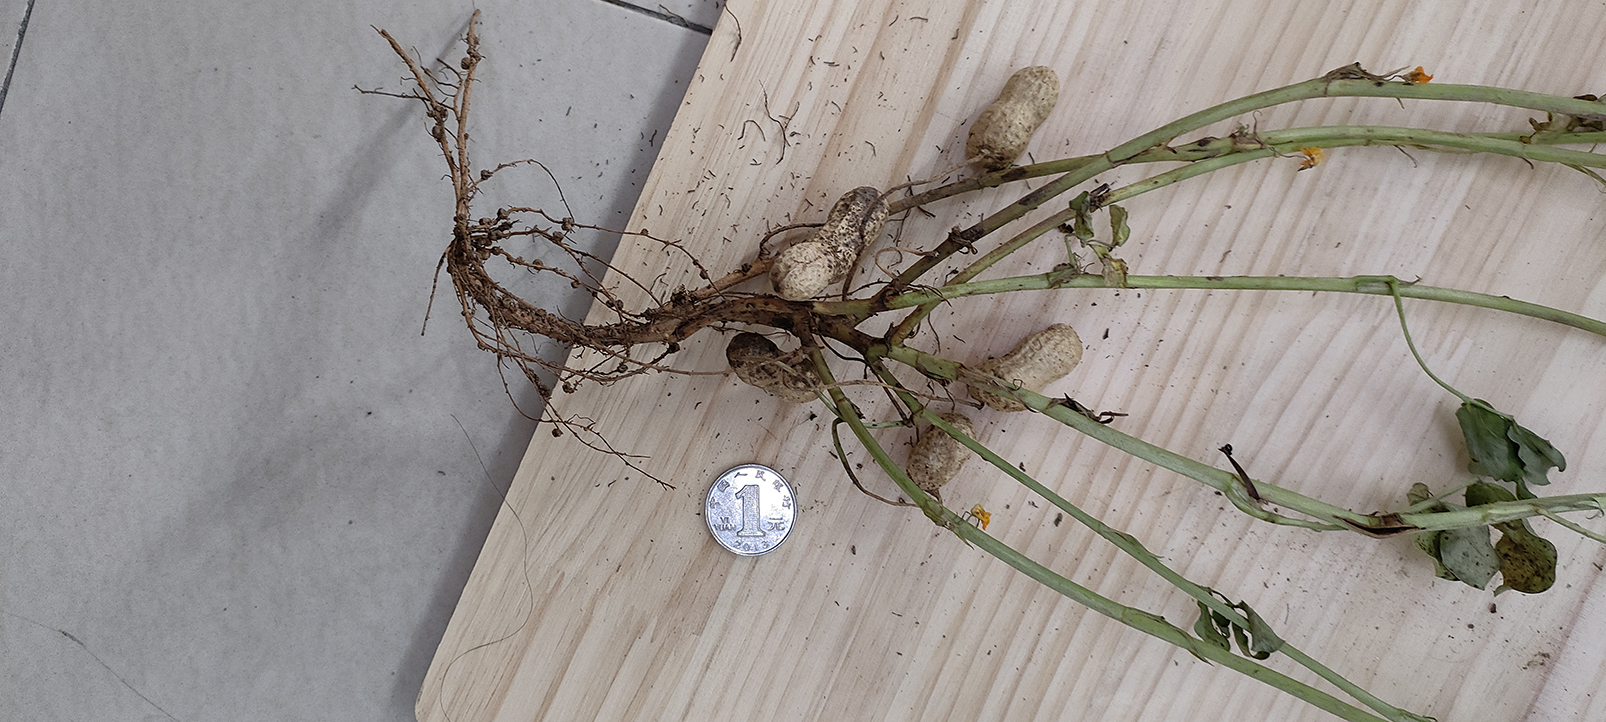h: (770, 187, 890, 299), (968, 323, 1082, 410), (969, 63, 1061, 169)
l: (726, 333, 825, 400), (908, 413, 975, 490)
